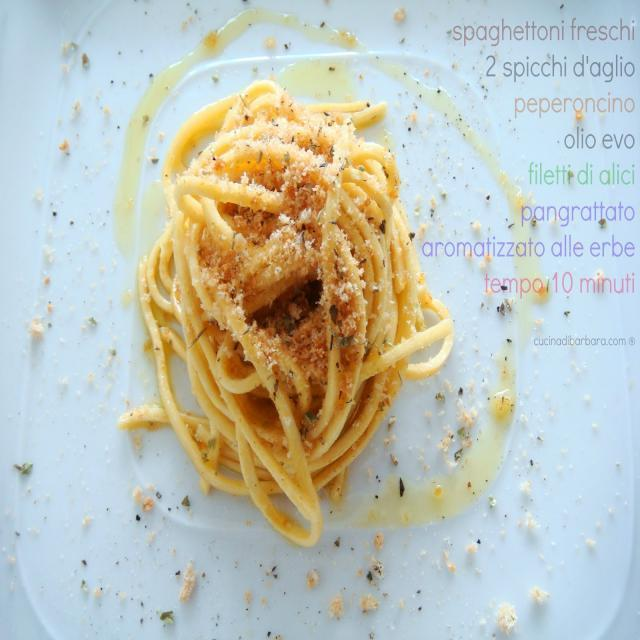Oil pasta: (105, 58, 505, 578)
